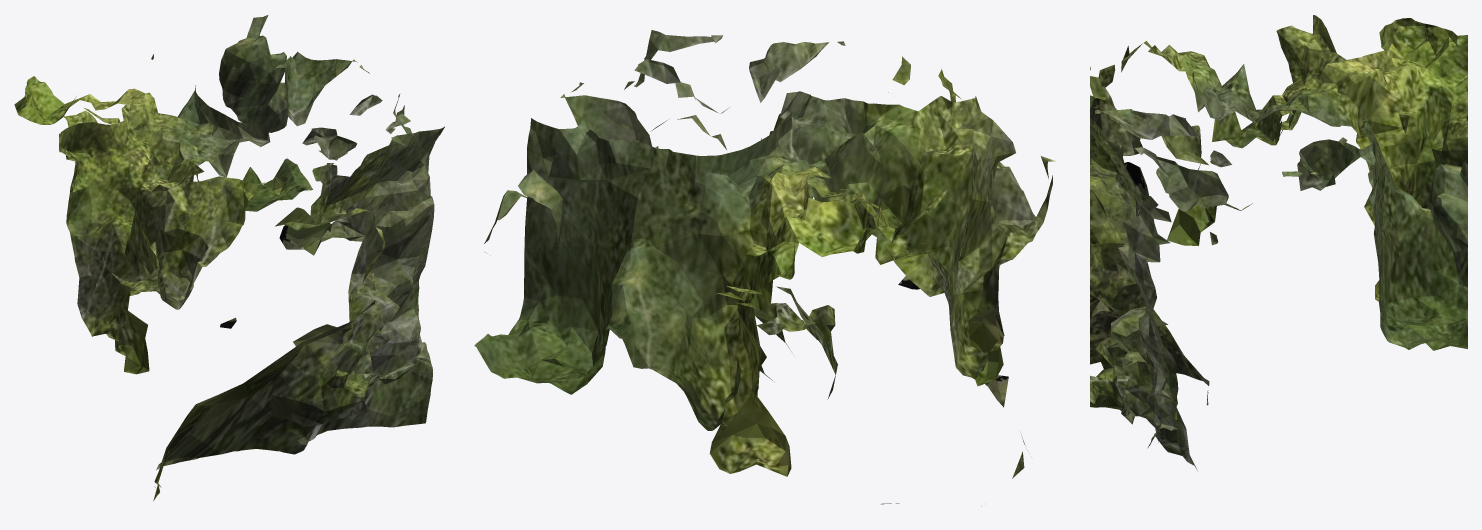
3 views of the same model, side by side, from view 1: azimuth 30°, elevation 25°; view 2: azimuth 150°, elevation 25°; view 3: azimuth 270°, elevation 25° (orthographic). The views are drawn at different scales.
Size of the model in its own units: 5.9 by 5.9 by 5.9.
Materials: 6 (6 with a texture image).
